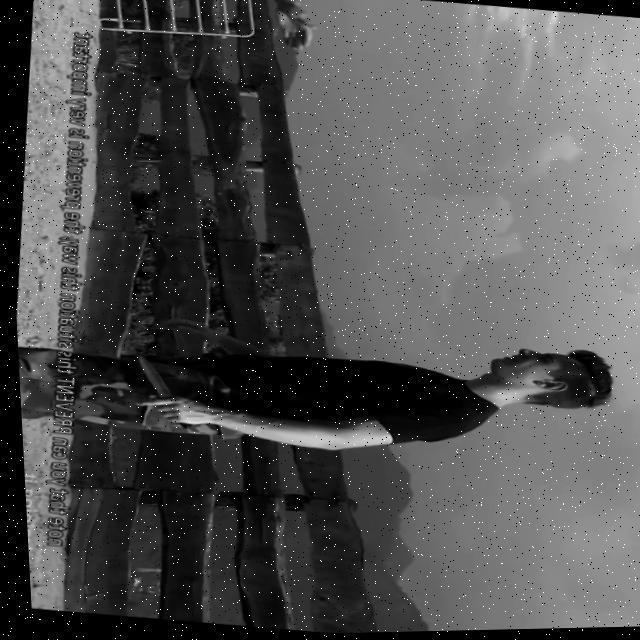knife: (118, 353, 170, 399)
